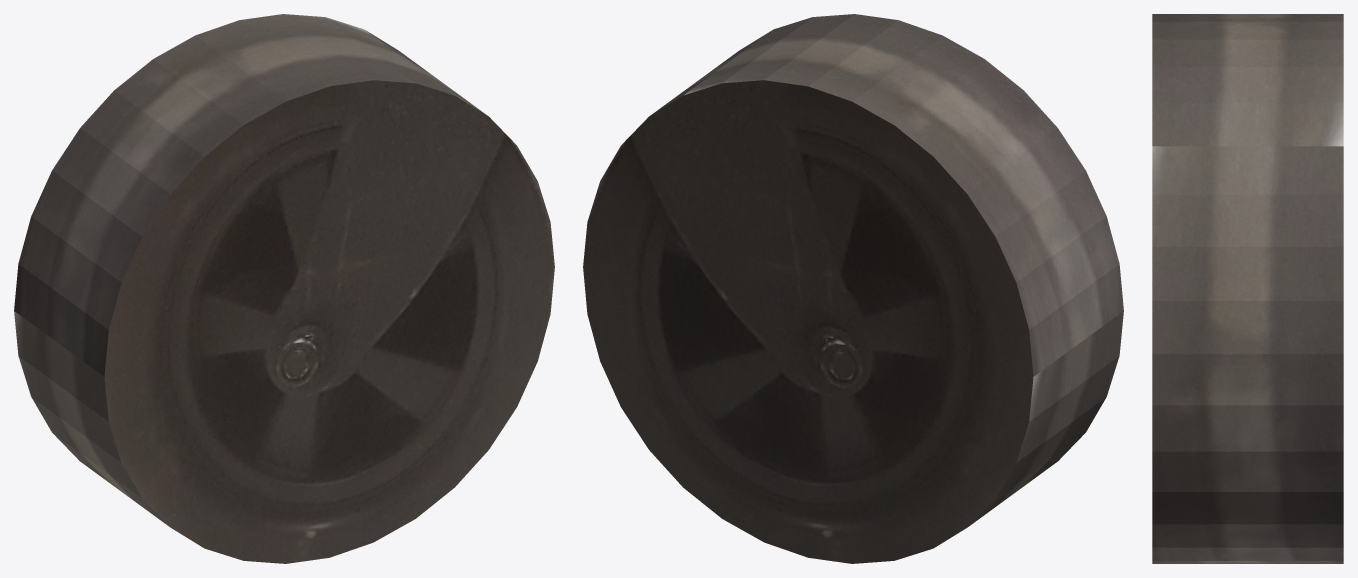
File: top_left_wheel.dae
3 views of the same model, side by side, from view 1: azimuth 30°, elevation 25°; view 2: azimuth 150°, elevation 25°; view 3: azimuth 270°, elevation 25° (orthographic). The views are drawn at different scales.
Visible parts, largest first — view 1: Small_Wheel; view 2: Small_Wheel; view 3: Small_Wheel.
Boxes of the visible parts, bbox=[...] form: Small_Wheel: bbox=[14, 14, 554, 563]; Small_Wheel: bbox=[583, 14, 1123, 563]; Small_Wheel: bbox=[1152, 14, 1343, 563].
Bounding box in the file's own units: 0.146 × 0.0508 × 0.146.
Materials: 1 (1 with a texture image).
